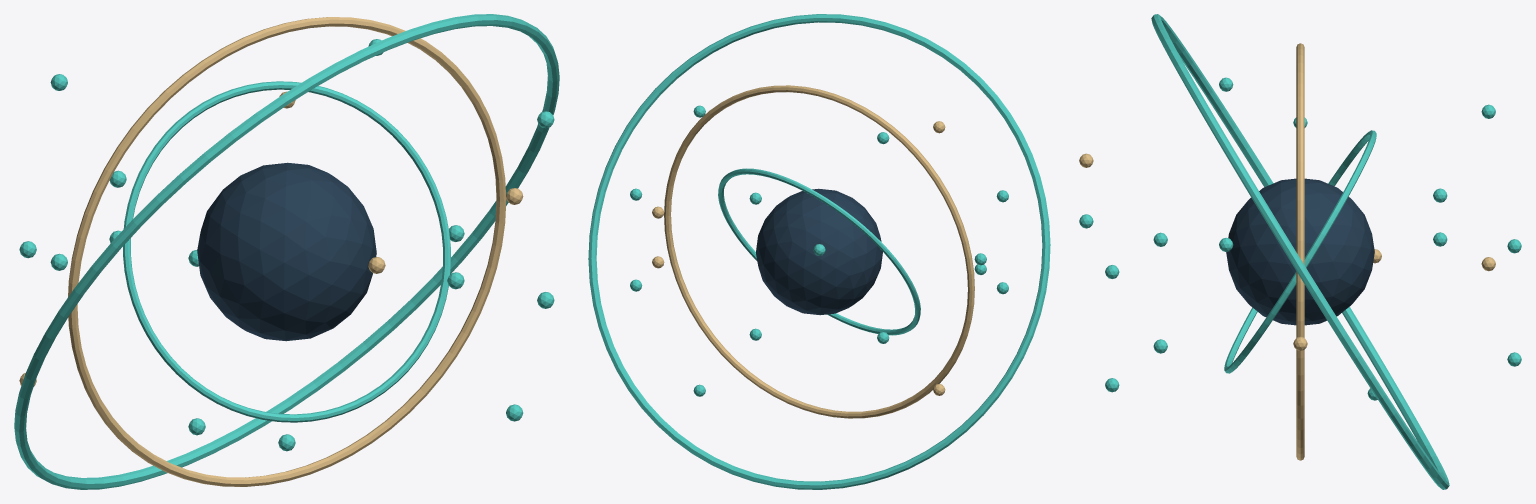
File: intelligence-core.glb
The picture shows the model from 3 angles, left to right: view 1: azimuth 30°, elevation 25°; view 2: azimuth 150°, elevation 25°; view 3: azimuth 270°, elevation 25°; orthographic projection. The views are drawn at different scales.
Visible parts, largest first — view 1: central_core, orbit_2, orbit_1, orbit_0, world; view 2: orbit_2, central_core, orbit_1, orbit_0, world; view 3: central_core, orbit_2, orbit_1, orbit_0, world.
Boxes of the visible parts, x1,y1,x2,y2 form: central_core: (197,162,376,341); orbit_2: (14,14,559,489); orbit_1: (68,17,506,486); orbit_0: (123,81,450,422); world: (19,39,554,451); orbit_2: (588,14,1050,489); central_core: (756,188,882,315); orbit_1: (664,85,974,418); orbit_0: (718,168,920,335); world: (630,105,1008,396); central_core: (1226,178,1374,325); orbit_2: (1151,14,1449,489); orbit_1: (1296,43,1304,460); orbit_0: (1224,130,1376,373); world: (1079,77,1521,400).
Bounding box in the file's own units: 8.69 × 7.73 × 7.03.
